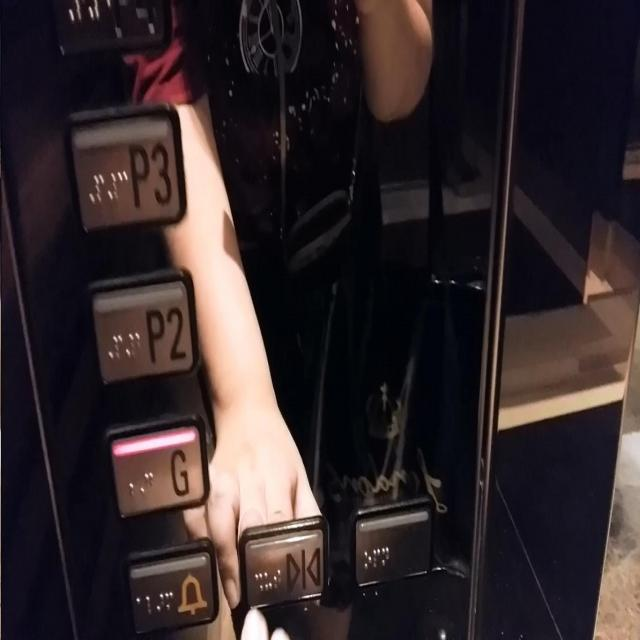G: (101, 407, 212, 528)
P2: (81, 263, 203, 391)
P3: (61, 95, 188, 241)
alarm: (119, 531, 222, 639)
close: (235, 507, 333, 615)
empty: (347, 492, 435, 592)
